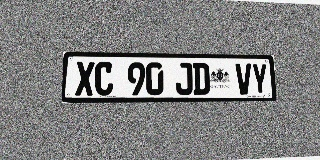0: (146, 62, 163, 95)
9: (128, 62, 145, 95)
C: (95, 62, 113, 96)
D: (193, 63, 210, 95)
J: (175, 63, 193, 95)
V: (235, 63, 252, 95)
X: (75, 62, 94, 96)
Y: (251, 63, 268, 95)
